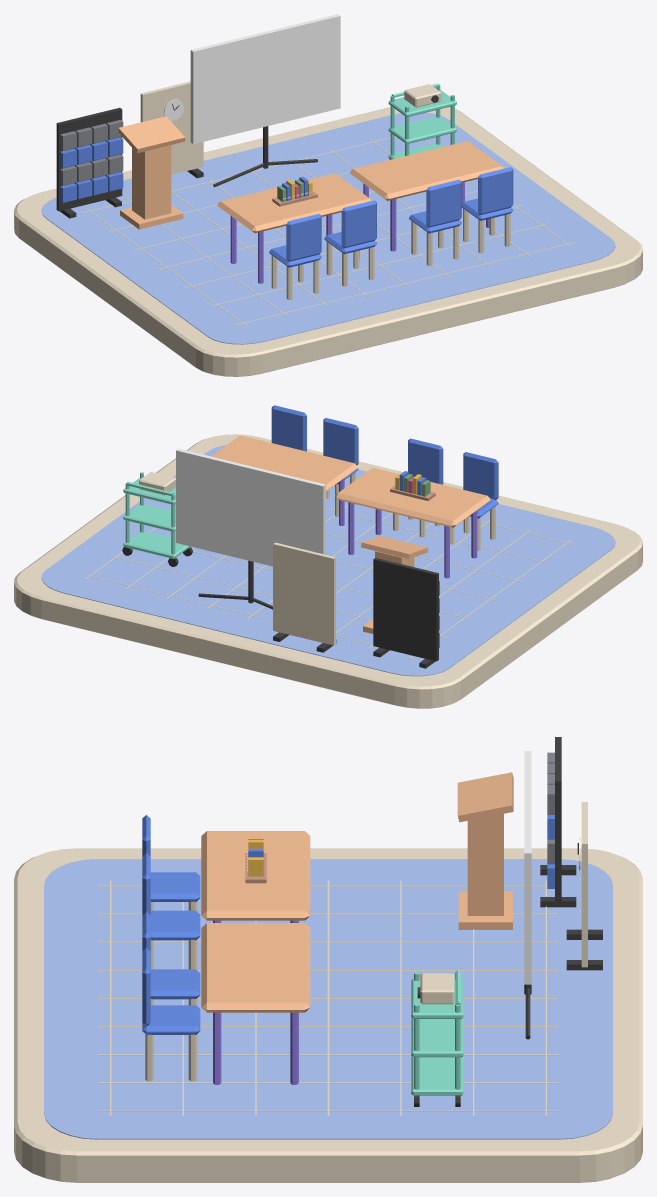
File: room.fbx
3 views of the same model, one above another, from view 1: azimuth 30°, elevation 25°; view 2: azimuth 150°, elevation 25°; view 3: azimuth 270°, elevation 25° (orthographic). The views are drawn at different scales.
Parts seen in each view (by area): view 1: COM-02 Floor Surface, COM-01 Rounded Base Direct, Screen, Rounded table top.001, Rounded table top, Body, Panel.001, Panel, Reading top, Backrest.003, Backrest, Backrest.002 (+5 smaller); view 2: COM-02 Floor Surface, COM-01 Rounded Base Direct, Screen, Panel, Panel.001, Rounded table top, Rounded table top.001, Backrest, Backrest.002, Backrest.003, Backrest.001, Tray (+4 smaller); view 3: COM-02 Floor Surface, COM-01 Rounded Base Direct, Rounded table top.001, Rounded table top, Body, Reading top, Screen, Tray.001, Tray, Seat.003, Seat.001, Seat.002 (+14 smaller).
Boxes of the visible parts, x1,y1,x2,y2 form: COM-02 Floor Surface: (41, 112, 615, 344); COM-01 Rounded Base Direct: (14, 106, 642, 376); Screen: (190, 14, 340, 144); Rounded table top.001: (350, 141, 504, 200); Rounded table top: (217, 173, 372, 233); Body: (132, 145, 171, 219); Panel.001: (140, 81, 203, 174); Panel: (56, 107, 122, 211); Reading top: (118, 116, 185, 153); Backrest.003: (478, 167, 513, 214); Backrest: (286, 214, 321, 261); Backrest.002: (426, 179, 461, 227); COM-02 Floor Surface: (41, 445, 615, 676); COM-01 Rounded Base Direct: (14, 434, 642, 708); Screen: (176, 448, 325, 566); Panel: (373, 558, 438, 661); Panel.001: (273, 542, 335, 645); Rounded table top: (335, 468, 490, 527); Rounded table top.001: (211, 435, 357, 491); Backrest: (463, 452, 498, 499); Backrest.002: (323, 418, 358, 464); Backrest.003: (271, 405, 306, 451); Backrest.001: (408, 438, 443, 484); Tray: (123, 531, 190, 558); COM-02 Floor Surface: (44, 859, 612, 1139); COM-01 Rounded Base Direct: (14, 848, 642, 1182); Rounded table top.001: (201, 923, 310, 1012); Rounded table top: (201, 831, 310, 920); Body: (467, 814, 503, 915); Reading top: (457, 772, 513, 822); Screen: (524, 751, 531, 984); Tray.001: (411, 1018, 463, 1057); Tray: (411, 1056, 463, 1095); Seat.003: (142, 1005, 200, 1034); Seat.001: (150, 910, 200, 940); Seat.002: (150, 969, 200, 999).
Bounding box in the file's own units: 600 × 214 × 520.
